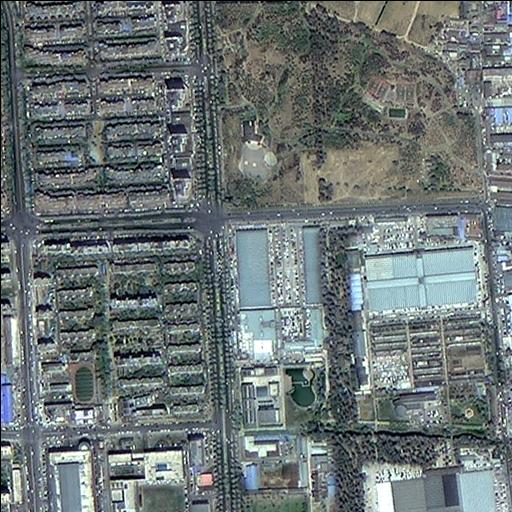school: (36, 357, 99, 410)
